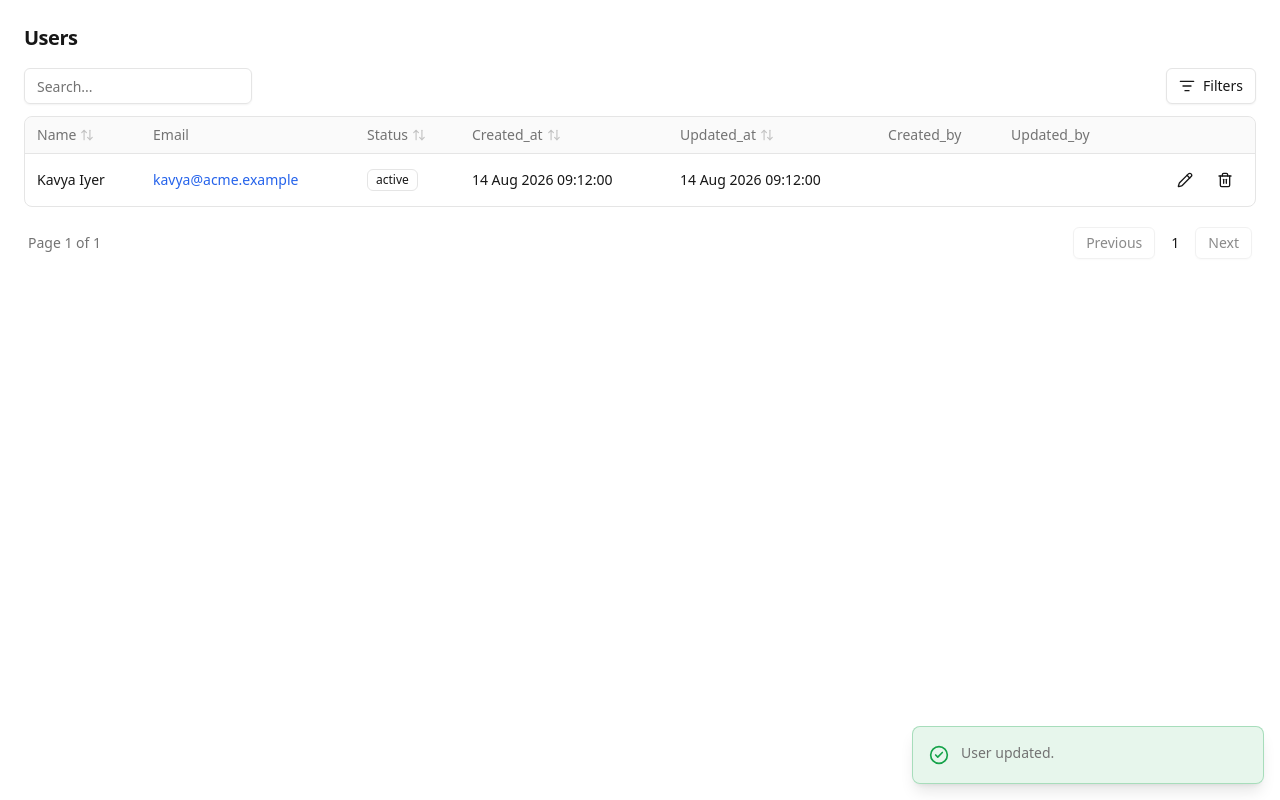
Test: UsersPage › editing a user › displays the specific API error message in toast if PATCH fails
This screenshot has width=1280, height=800.
Click the button named "Edit". click: [1185, 180]
box: [1167,162,1203,198]
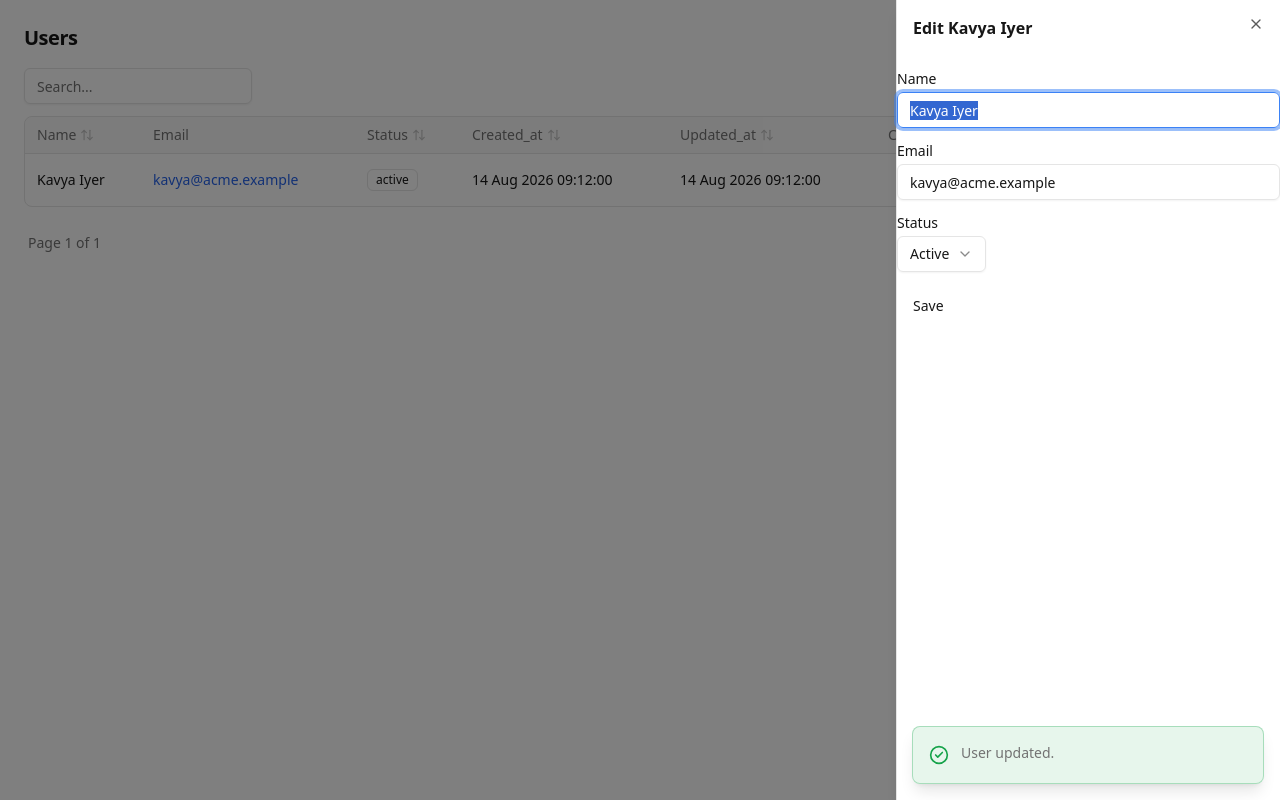
Replace the text in the field labelled "Name" with "Invalid123". click: [1088, 110]
box: [897,92,1279,128]
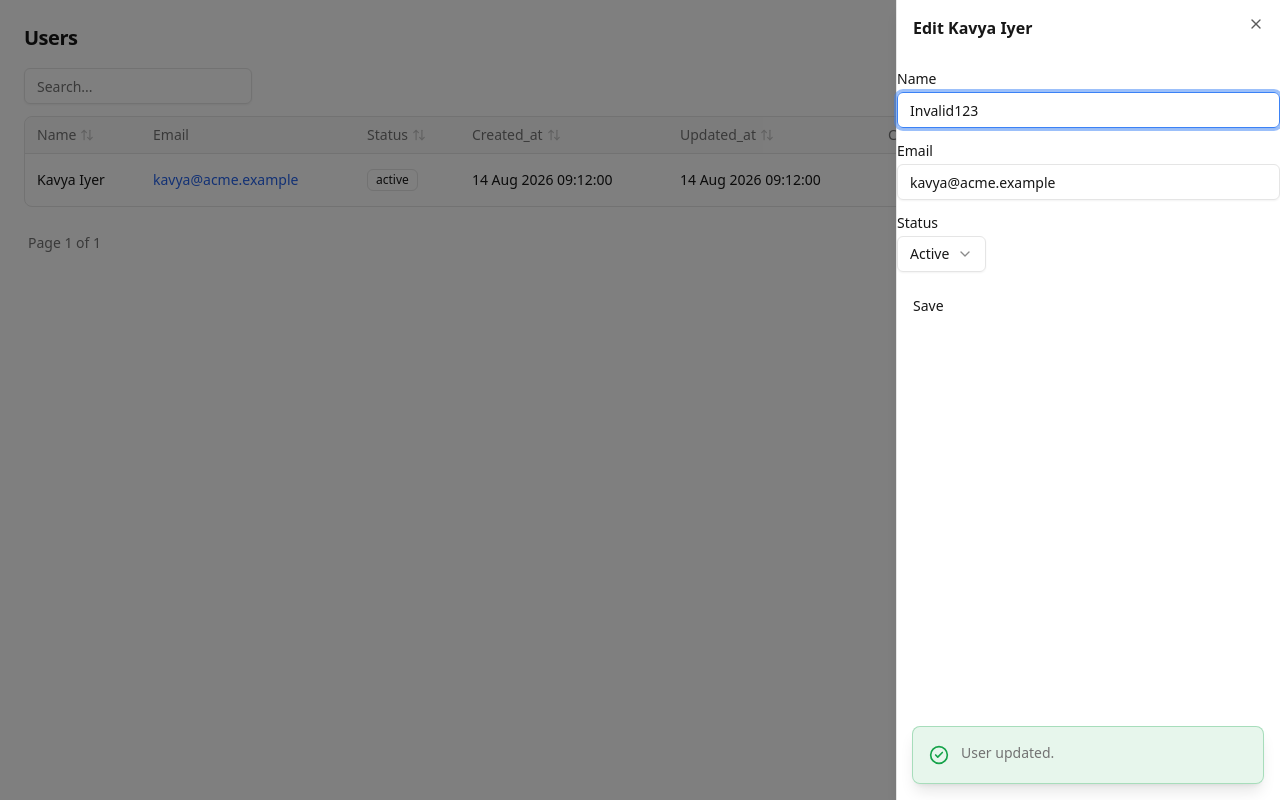
Click the button "Save". click: [928, 306]
box: [897,288,960,324]
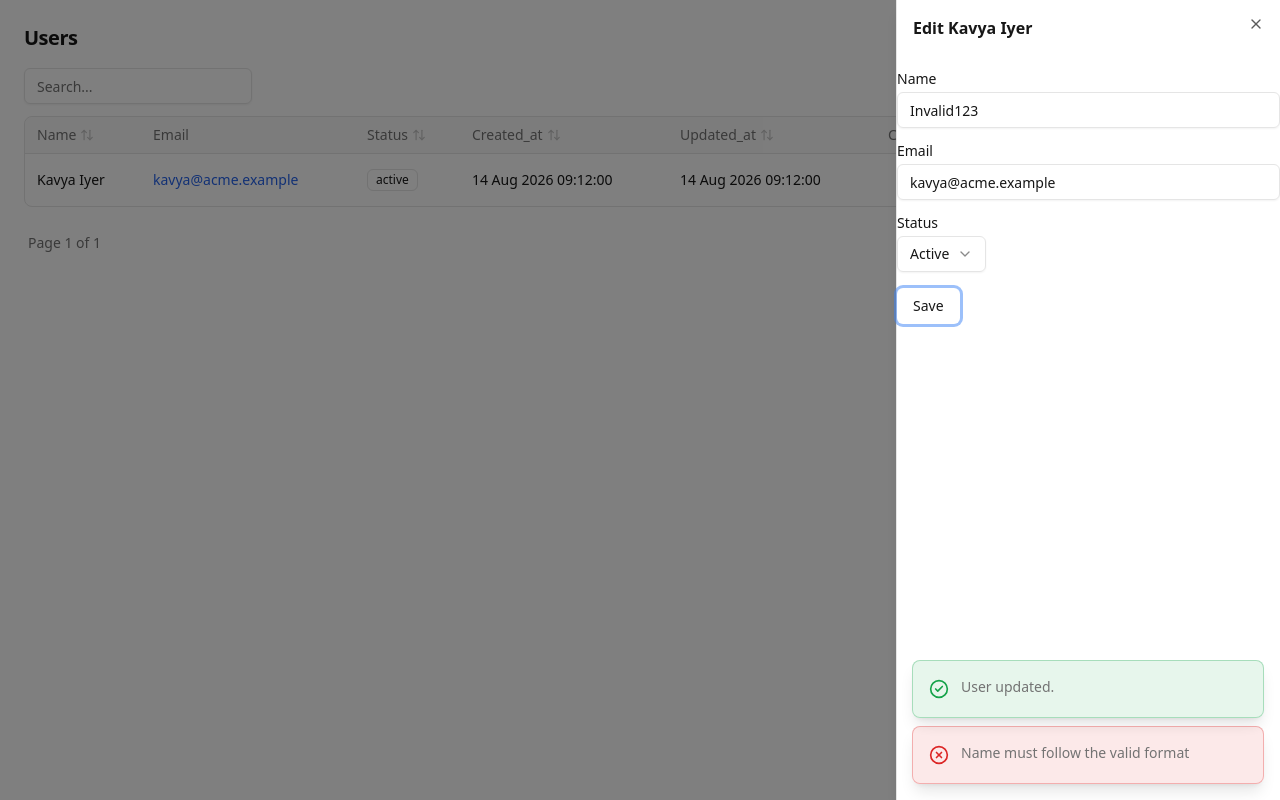
Check: the text "Name must follow the valid format" is shown, box [961,743,1189,762]
